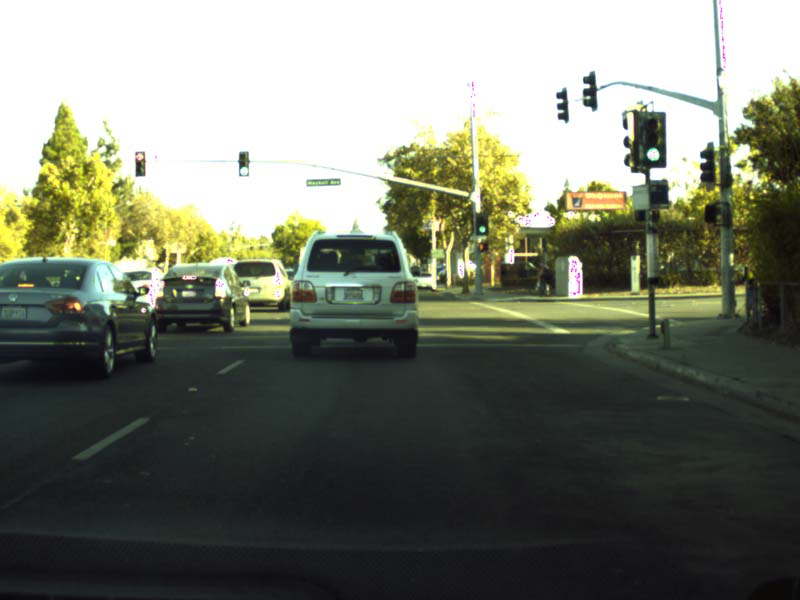Green: (633, 111, 666, 168), (475, 212, 488, 234), (239, 151, 248, 176)
Red: (135, 151, 145, 176)
